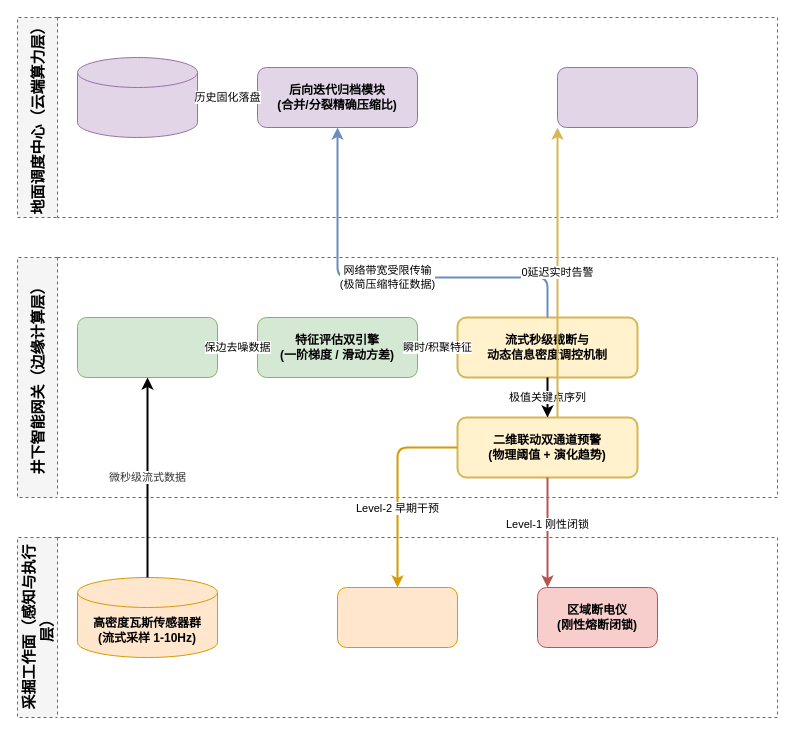
This 795x735 diagram has some shape labels left out. The shapes that lost their labels are listed below. From the top down, each one's centre as x and y in pixels, then its label:
At [137,97]: "时序数据库 (TSDB)".
At [627,97]: "地面调度告警大屏".
At [147,347]: "任意工业通信协议接入 & 环形缓冲 / 中值滤波".
At [397,617]: "局扇风机 (软干预提频)".
